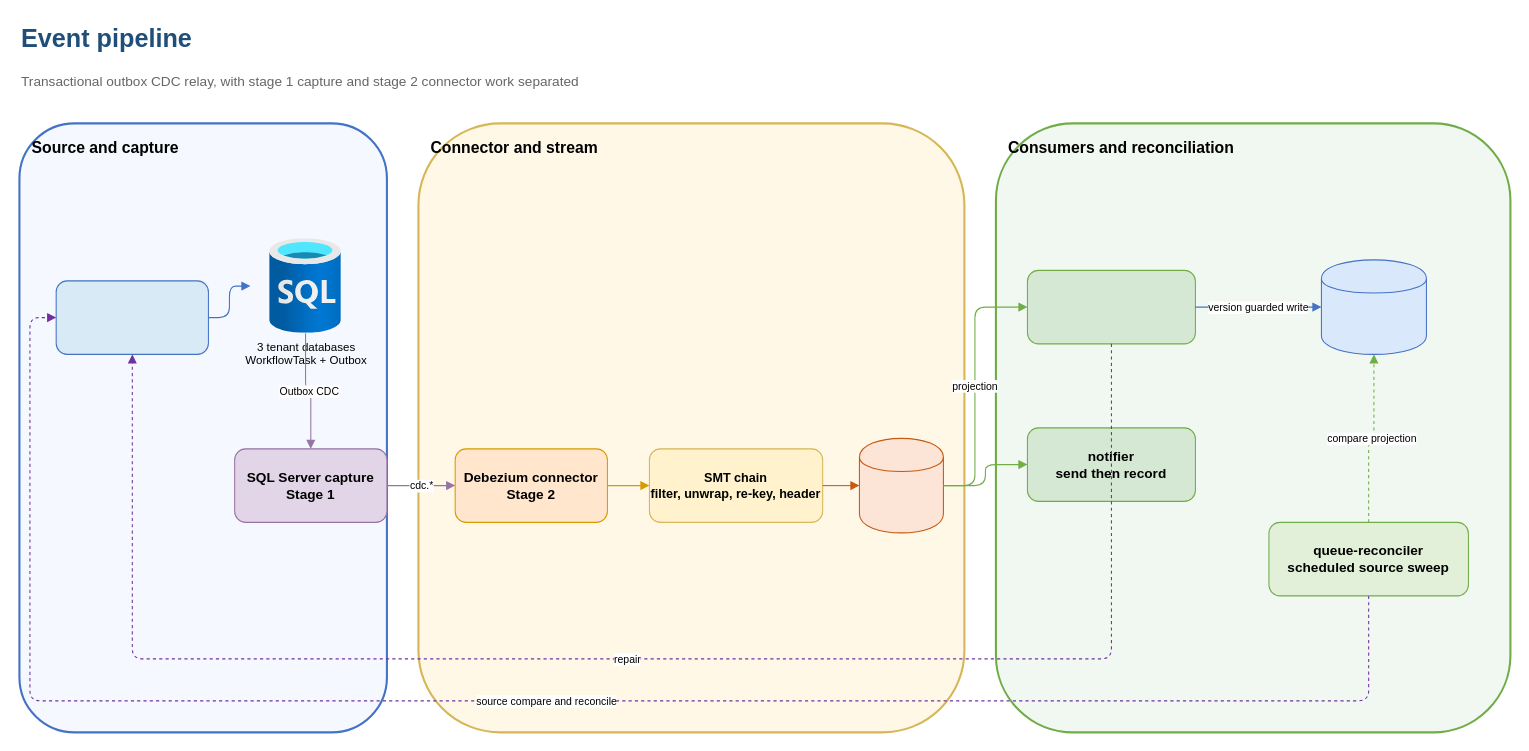
Image size: 1529x751. Some labels were removed from this diagram. Each missing label, with the centre of its shape:
queue-builder state projection: pixel 1110 306
QueueState: pixel 1373 306
task-api transition transaction: pixel 131 317
workflow-transitions keyed topic: pixel 900 485
